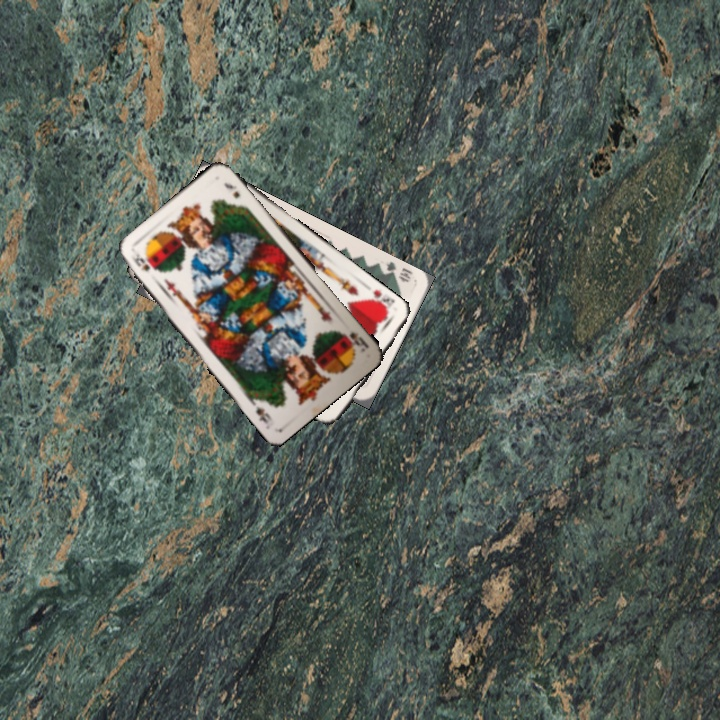G10: (376, 258, 415, 285)
HK: (364, 285, 397, 316)
SK: (340, 328, 372, 355), (126, 249, 153, 274)
